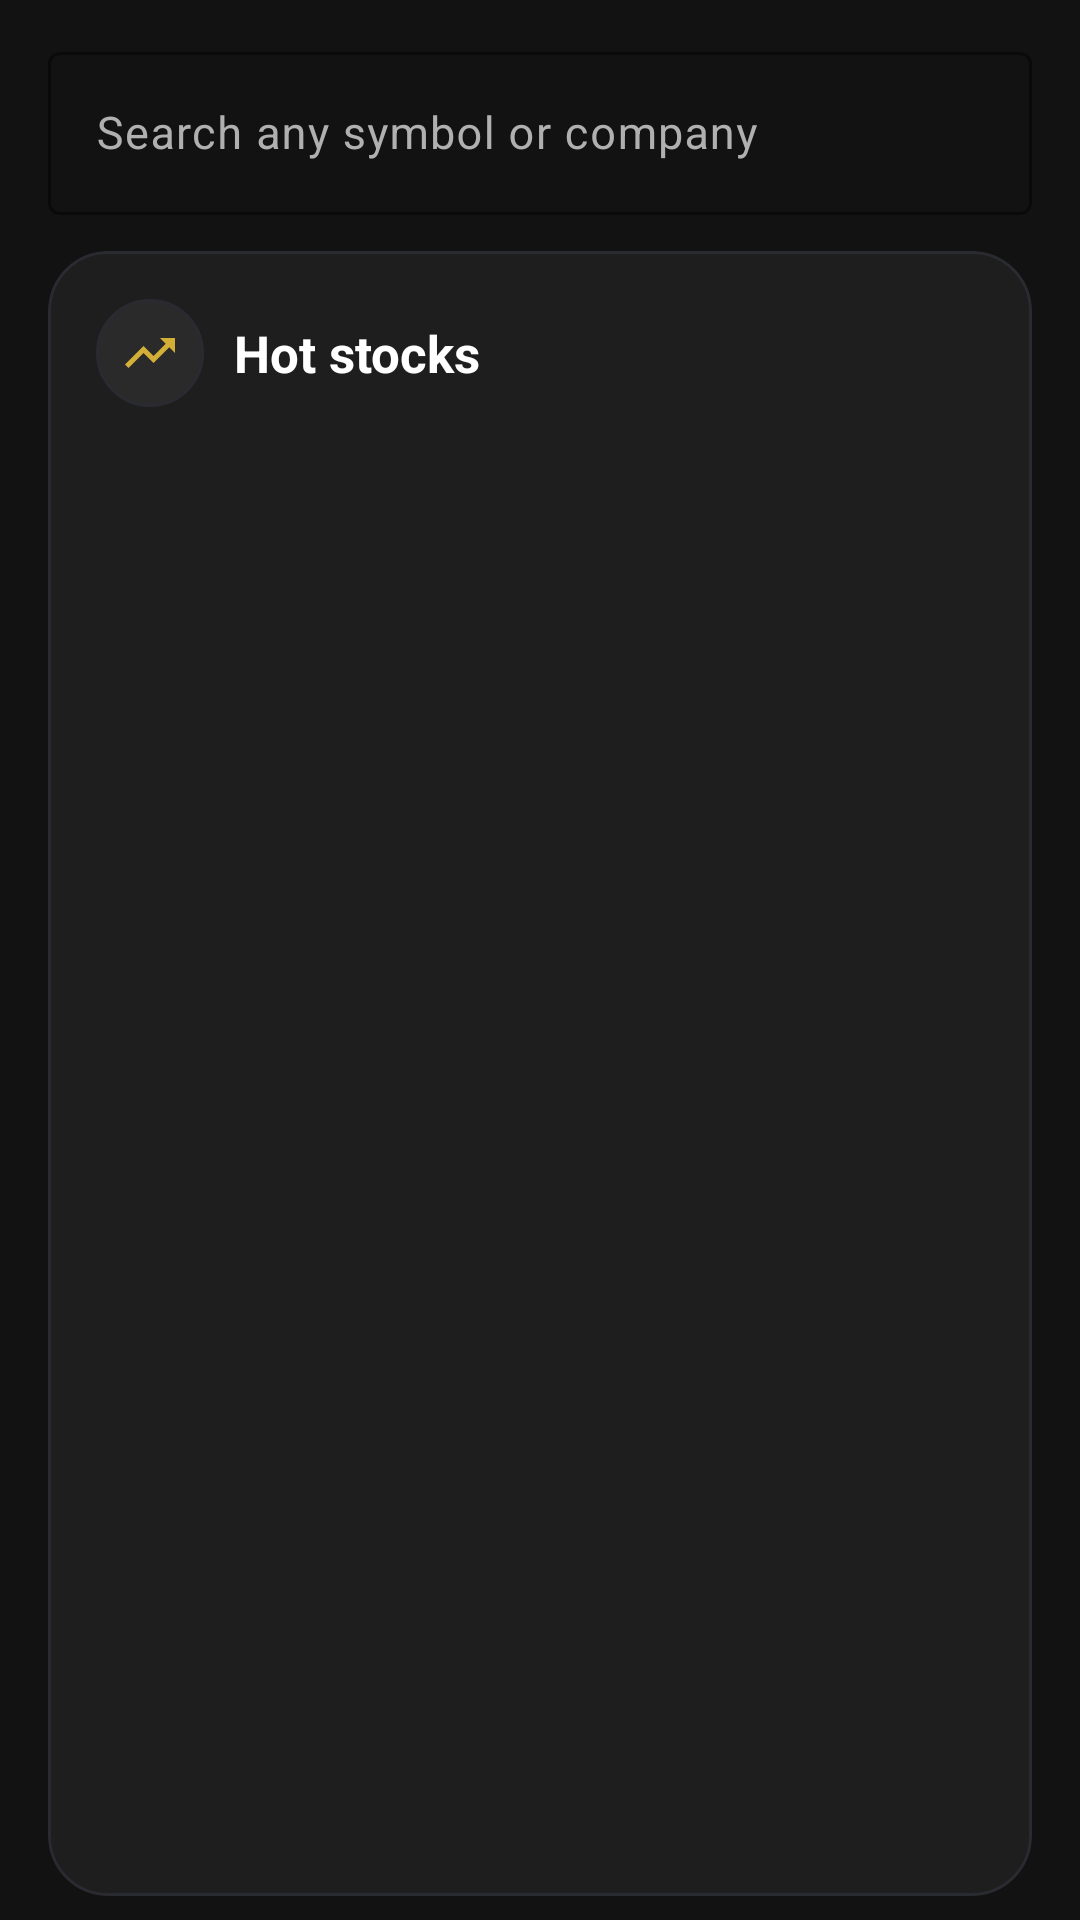

Named icons in this screenshot (1080w x 1920h) and their bounding boxes, region(x1, y1, x2, y2):
trend up: region(96, 299, 204, 407)
